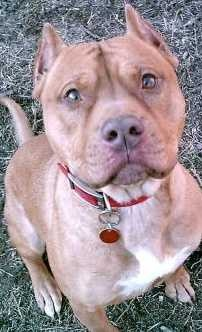dog: (0, 7, 202, 303)
